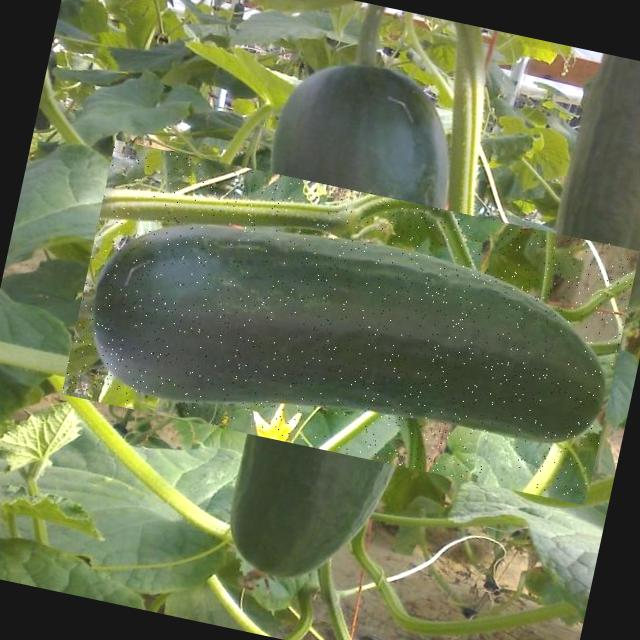Cucumber: (75, 188, 628, 492)
